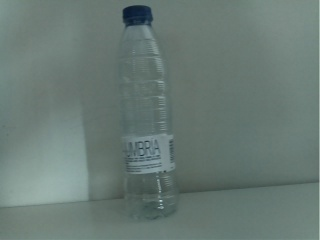botella plastico: (120, 5, 177, 222)
